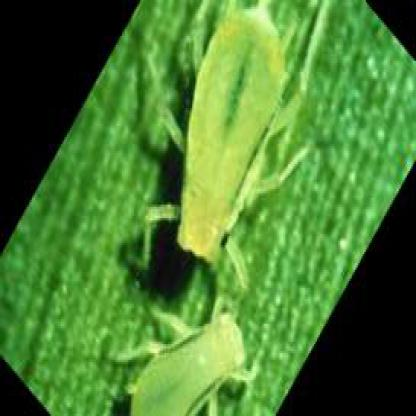schizaphis graminum: (144, 5, 303, 268), (116, 294, 261, 414)
